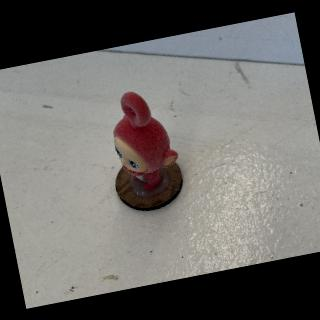teletubby: (113, 91, 178, 190)
